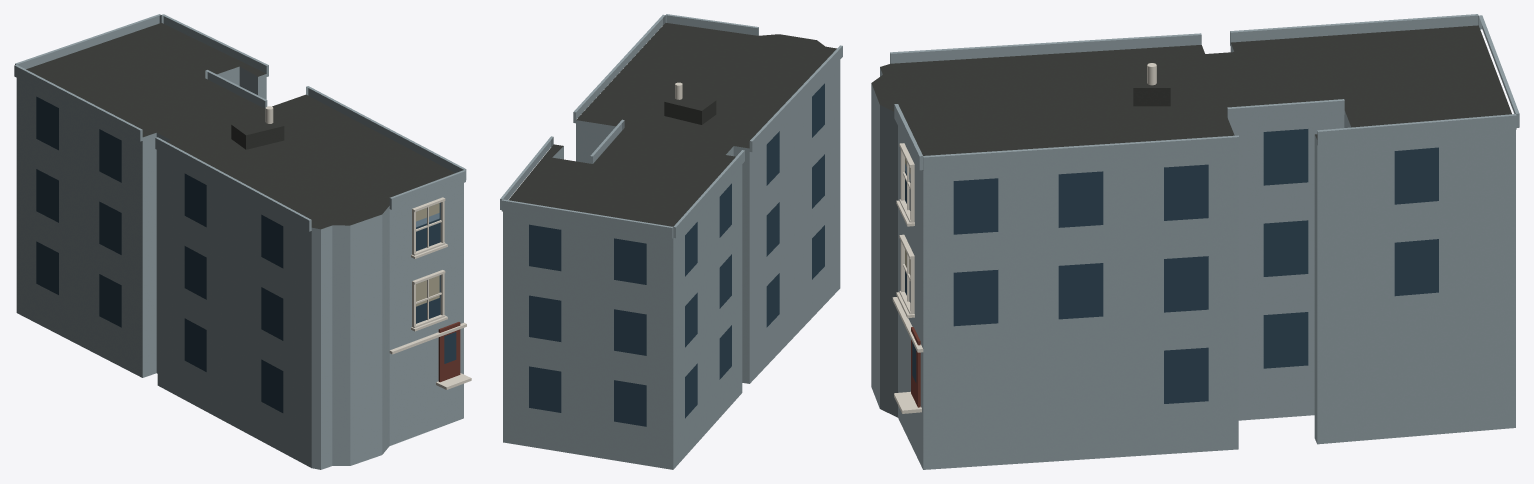
3 views of the same model, side by side, from view 1: azimuth 30°, elevation 25°; view 2: azimuth 150°, elevation 25°; view 3: azimuth 270°, elevation 25° (orthographic). The views are drawn at different scales.
Visible parts, largest first — view 1: Footprint 0 / surface 2, Footprint 0 / surface 1, Inset glazing, Facade bay volumes, Cornices and window frames, Storefronts and doors, Interior blind variation, Inferred rooftop service enclosure / surface 5, Inferred rooftop service enclosure / surface 3; view 2: Footprint 0 / surface 2, Footprint 0 / surface 1, Inset glazing, Facade bay volumes, Inferred rooftop service enclosure / surface 6, Inferred rooftop service enclosure / surface 3; view 3: Footprint 0 / surface 2, Footprint 0 / surface 1, Inset glazing, Facade bay volumes, Cornices and window frames, Inferred rooftop service enclosure / surface 1, Inferred rooftop service enclosure / surface 3.
Part boxes in pixels (x1,y1,x2,y2): Footprint 0 / surface 2: (16, 66, 463, 469); Footprint 0 / surface 1: (26, 23, 454, 229); Inset glazing: (36, 96, 456, 412); Facade bay volumes: (14, 14, 466, 231); Cornices and window frames: (389, 197, 471, 389); Storefronts and doors: (438, 322, 460, 382); Interior blind variation: (416, 203, 439, 306); Inferred rooftop service enclosure / surface 5: (246, 126, 284, 149); Inferred rooftop service enclosure / surface 3: (231, 116, 283, 135); Footprint 0 / surface 2: (503, 60, 840, 469); Footprint 0 / surface 1: (508, 23, 836, 226); Inset glazing: (529, 83, 824, 426); Facade bay volumes: (500, 14, 842, 238); Inferred rooftop service enclosure / surface 6: (664, 102, 701, 124); Inferred rooftop service enclosure / surface 3: (664, 92, 715, 110); Footprint 0 / surface 2: (871, 43, 1515, 469); Footprint 0 / surface 1: (871, 25, 1511, 155); Inset glazing: (905, 129, 1438, 403); Facade bay volumes: (890, 14, 1519, 171); Cornices and window frames: (892, 143, 923, 413); Inferred rooftop service enclosure / surface 1: (1133, 88, 1170, 106); Inferred rooftop service enclosure / surface 3: (1133, 64, 1170, 87).
Size of the model in its own units: 10.92 by 12.09 by 20.83.
